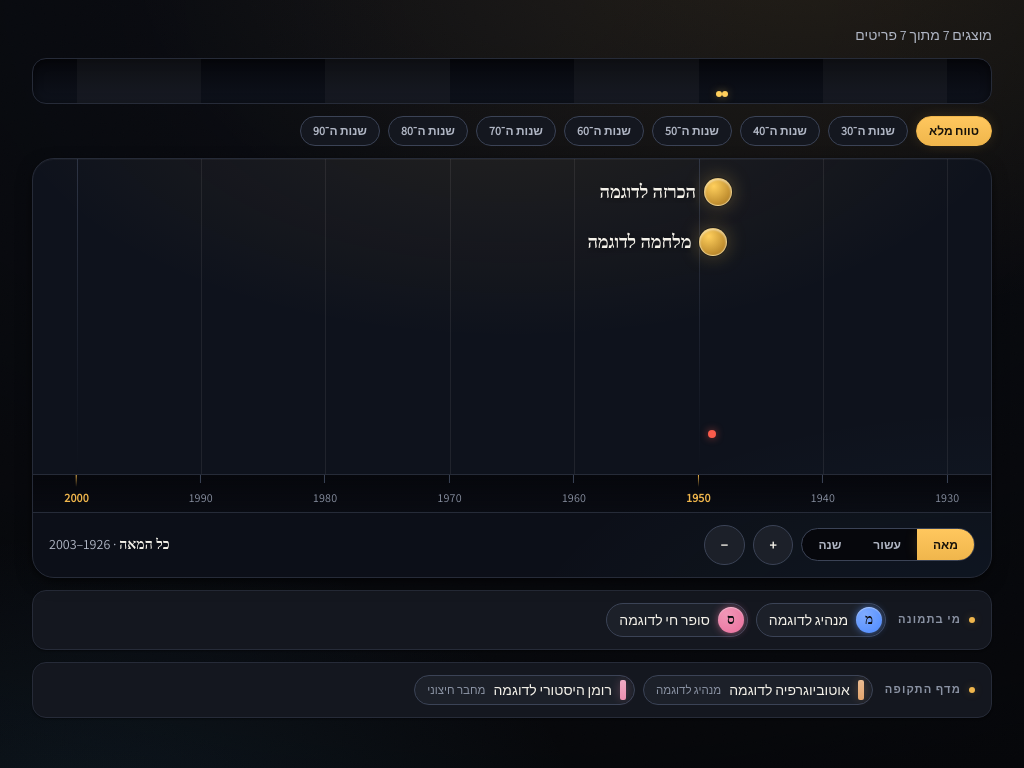
Test case: TimelineWorkspace — desktop detail panel › selecting an item opens the panel with its details and moves focus in
This screenshot has width=1024, height=768.
Click the button "מלחמה לדוגמה".
click(651, 242)  # box [575,219,727,265]
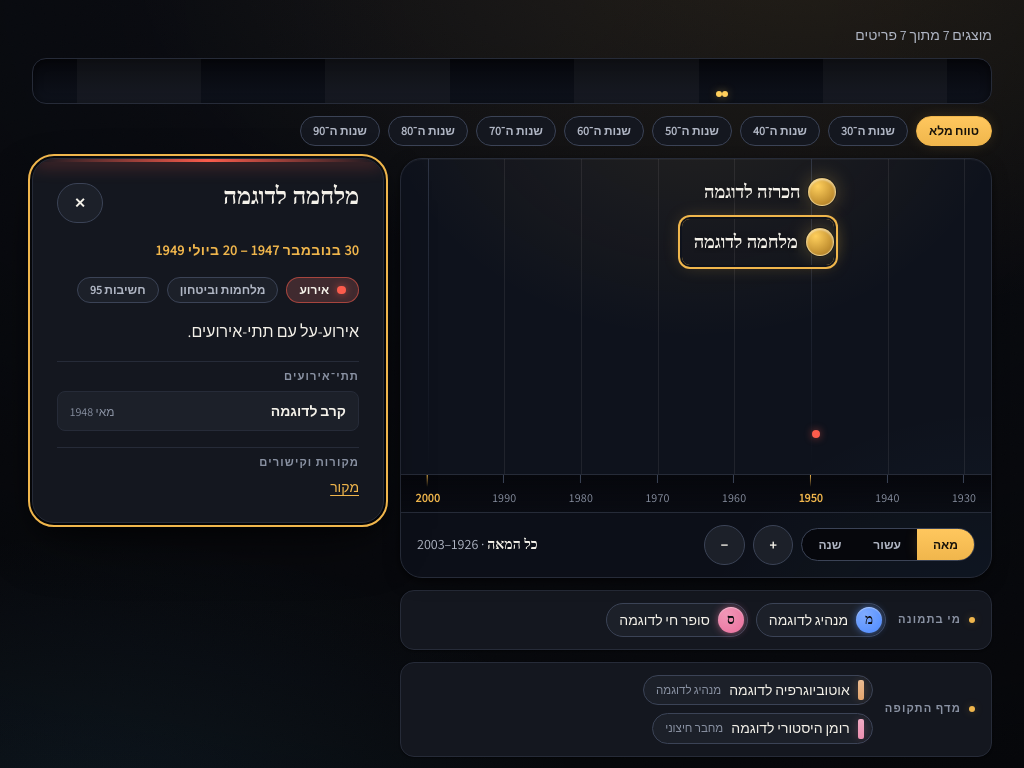
Expected: the heading "מלחמה לדוגמה" is shown, [223,183,359,210]
Expected: the text "אירוע-על עם תתי-אירועים." is shown, [188,320,359,342]
Expected: the list item "אירוע" is shown, [286,277,359,303]
